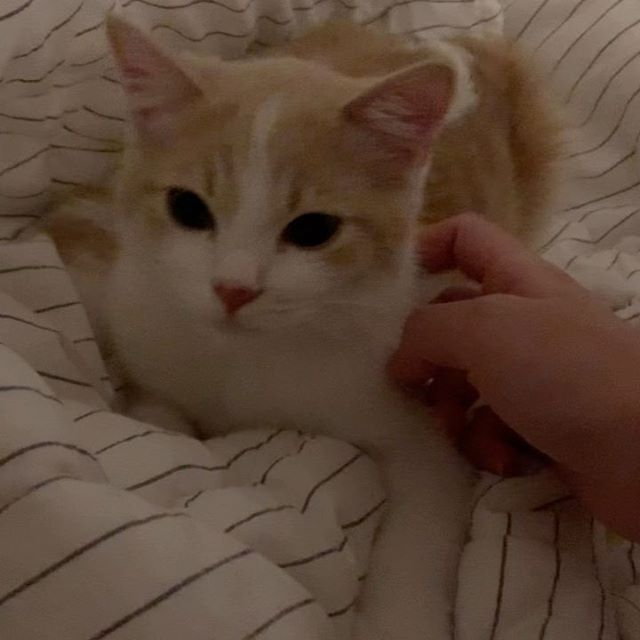cat: (101, 13, 468, 380)
